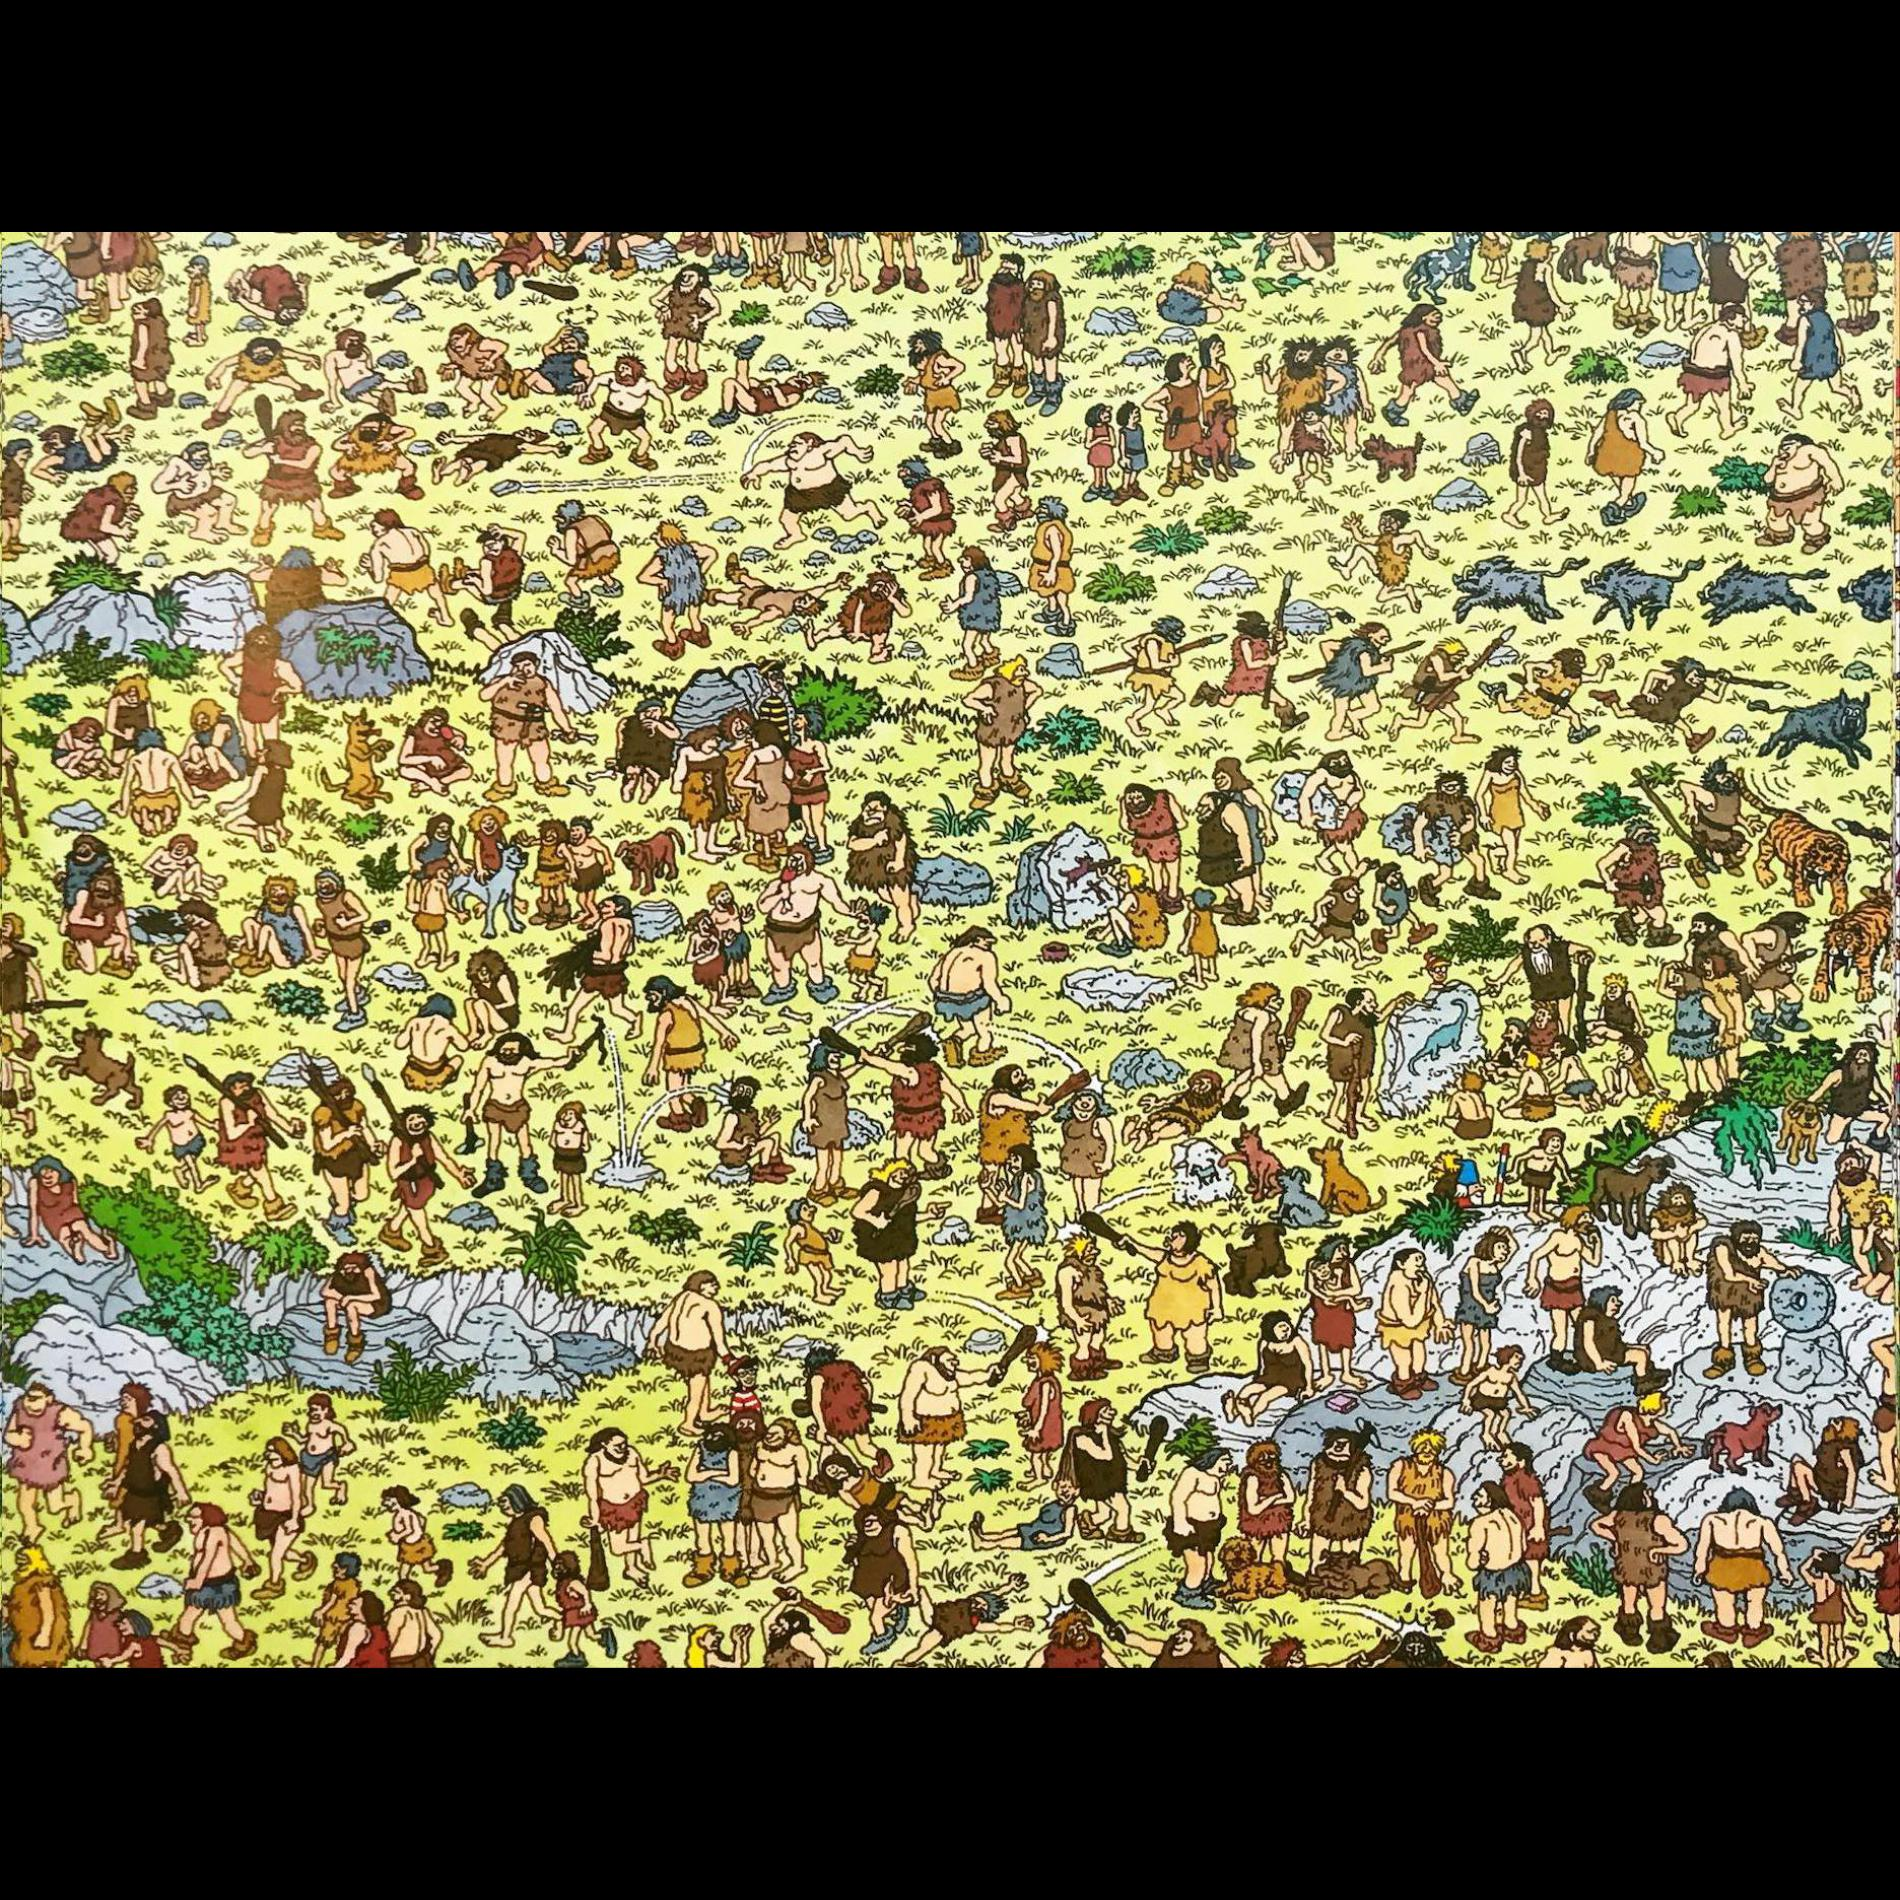Odlaw: (759, 658, 792, 738)
Wilma: (720, 1352, 759, 1409)
Wizard: (1453, 1141, 1510, 1206)
